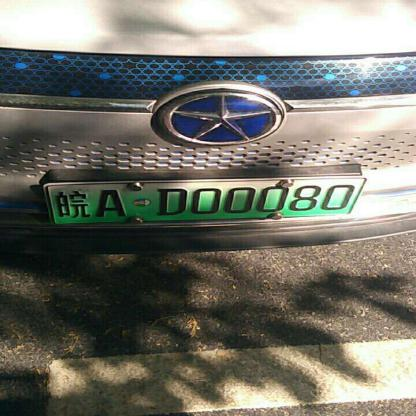lp: (56, 180, 349, 224)
